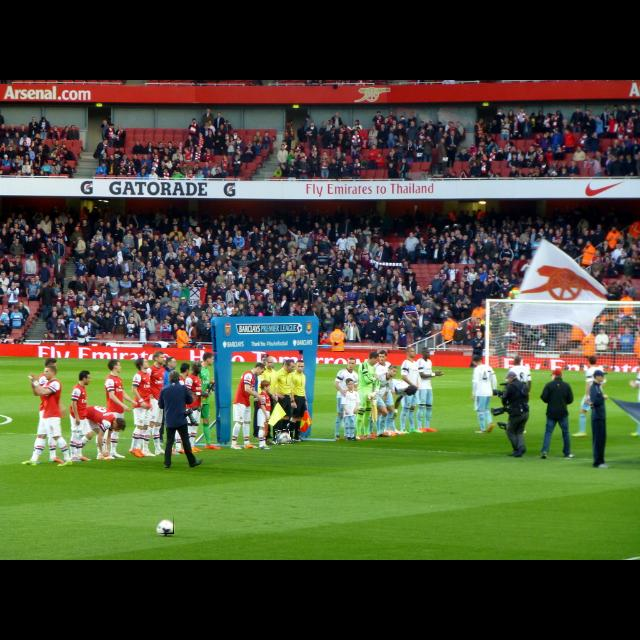Football: (156, 516, 174, 534), (276, 430, 290, 444)
